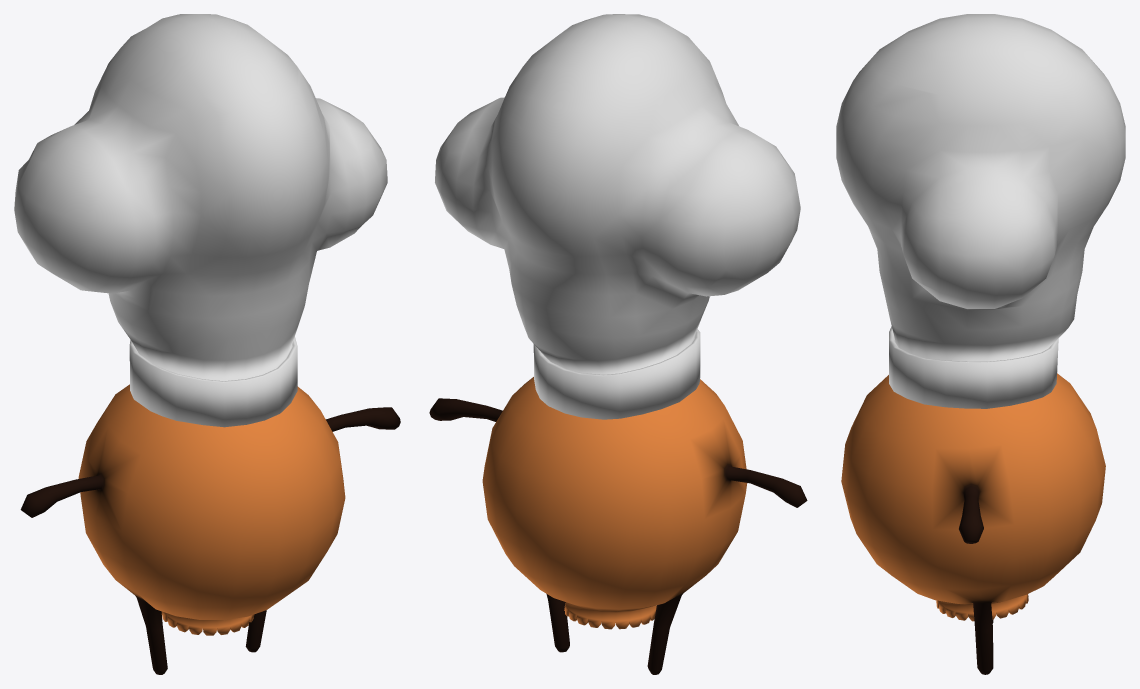
Rendered from Onion.fbx.
3 renders of one model, left to right at view 1: azimuth 30°, elevation 25°; view 2: azimuth 150°, elevation 25°; view 3: azimuth 270°, elevation 25°, orthographic.
Parts seen in each view (by area): view 1: ChefHat, Onion; view 2: ChefHat, Onion; view 3: ChefHat, Onion.
Part boxes in pixels (<box>): ChefHat: <box>14,14,387,427</box>; Onion: <box>20,384,400,674</box>; ChefHat: <box>435,14,800,419</box>; Onion: <box>429,377,807,674</box>; ChefHat: <box>836,14,1125,408</box>; Onion: <box>841,373,1105,674</box>.
Size of the model in its own units: 297 by 477 by 199.
